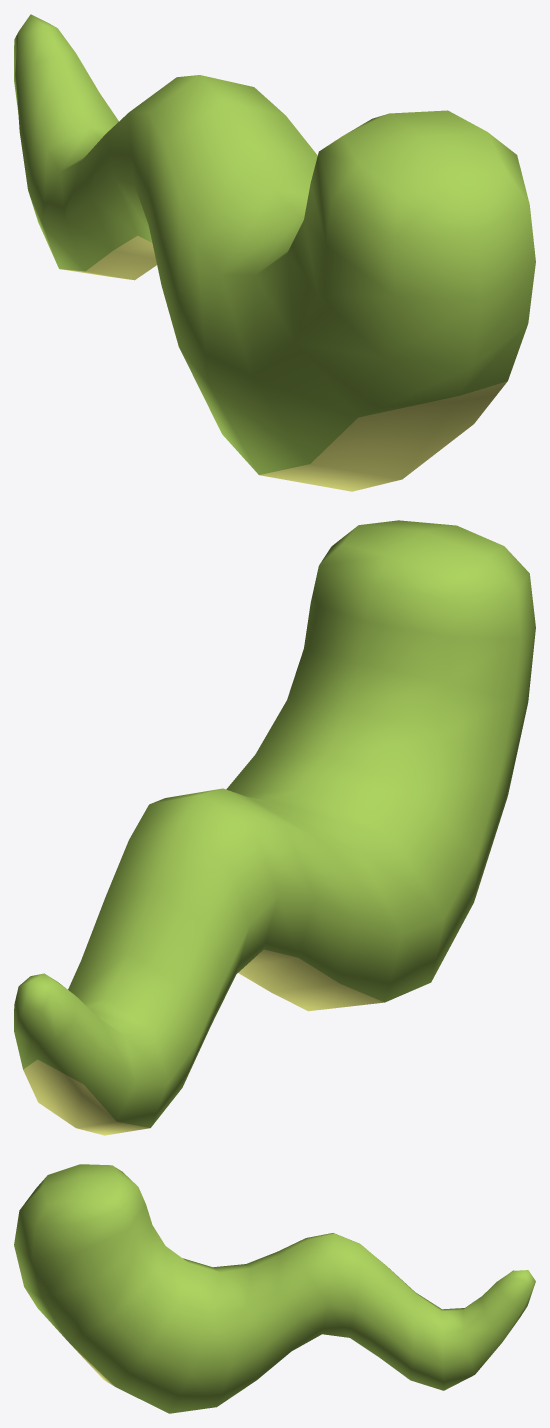
File: snakebody.fbx
3 renders of one model, top to bottom at view 1: azimuth 30°, elevation 25°; view 2: azimuth 150°, elevation 25°; view 3: azimuth 270°, elevation 25°, orthographic. The views are drawn at different scales.
Parts seen in each view (by area): view 1: snake_body; view 2: snake_body; view 3: snake_body.
Boxes of the visible parts, left/top/right/bottom form: snake_body: left=14, top=14, right=535, bottom=491; snake_body: left=14, top=520, right=535, bottom=1135; snake_body: left=14, top=1164, right=535, bottom=1413.
Size of the model in its own units: 22.59 by 37.02 by 75.55.
